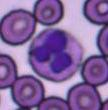N: (28, 28, 82, 81)
